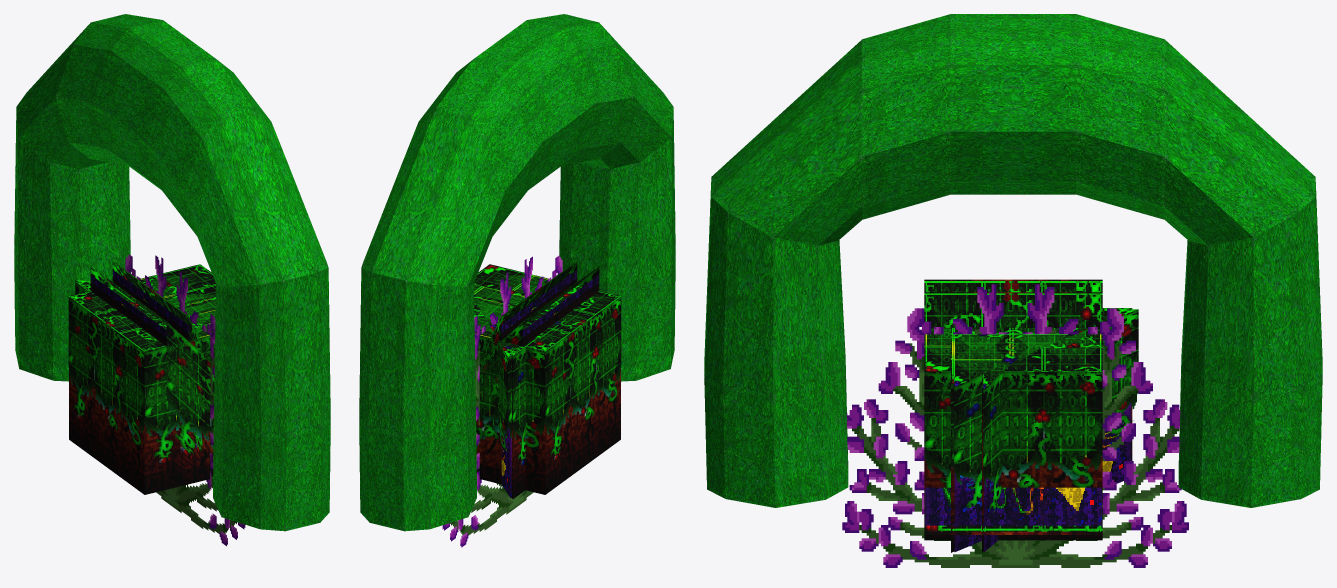
The model's file is TilesHyperNet.glb.
3 renders of one model, left to right at view 1: azimuth 30°, elevation 25°; view 2: azimuth 150°, elevation 25°; view 3: azimuth 270°, elevation 25°, orthographic. The views are drawn at different scales.
Parts seen in each view (by area): view 1: ARCO, BlocoGrama, RampaMGrama, Flower_Plane, BlocoTerra, RampaMGramaAzul, RampaPGrama, RampaPCarpete, TrianguloPGramaAzul, RampaMCarpete, TrianguloMGrama; view 2: ARCO, BlocoGrama, Flower_Plane, TrianguloMGramaAzul, RampaMGrama, BlocoTerra, RampaPGrama, TrianguloMGrama, TrianguloPGramaAzul, RampaMGramaAzul, RampaPCarpete, TrianguloMCarpete (+1 smaller); view 3: ARCO, Flower_Plane, BlocoGrama, TrianguloMGramaAzul, RampaMCarpete, RampaPGrama, RampaMGrama, TrianguloPGramaAzul, TrianguloMGrama, TrianguloMCarpete.
Part boxes in pixels (x1,y1,x2,y2): ARCO: (14,14,330,531); BlocoGrama: (68,264,215,494); RampaMGrama: (90,266,214,461); Flower_Plane: (125,254,245,546); BlocoTerra: (68,367,213,494); RampaMGramaAzul: (91,282,213,473); RampaPGrama: (112,261,213,458); RampaPCarpete: (113,270,188,332); TrianguloPGramaAzul: (134,296,215,328); RampaMCarpete: (91,275,166,337); TrianguloMGrama: (75,279,210,329); ARCO: (359,14,675,531); BlocoGrama: (474,264,621,494); Flower_Plane: (442,255,562,547); TrianguloMGramaAzul: (474,278,537,498); RampaMGrama: (476,266,599,439); BlocoTerra: (476,367,621,494); RampaPGrama: (477,261,577,446); TrianguloMGrama: (475,281,522,449); TrianguloPGramaAzul: (474,285,567,338); RampaMGramaAzul: (476,282,598,468); RampaPCarpete: (501,270,576,332); TrianguloMCarpete: (501,428,511,498); ARCO: (704,14,1322,507); Flower_Plane: (836,284,1196,567); BlocoGrama: (924,328,1102,540); TrianguloMGramaAzul: (954,308,1132,551); RampaMCarpete: (925,487,1101,525); RampaPGrama: (924,292,1102,327); RampaMGrama: (924,279,1102,534); TrianguloPGramaAzul: (983,359,1015,513); TrianguloMGrama: (951,309,1138,552); TrianguloMCarpete: (954,403,1131,551).
Size of the model in its own units: 2.5 by 6.86 by 6.99.
6 materials, 6 textured.
